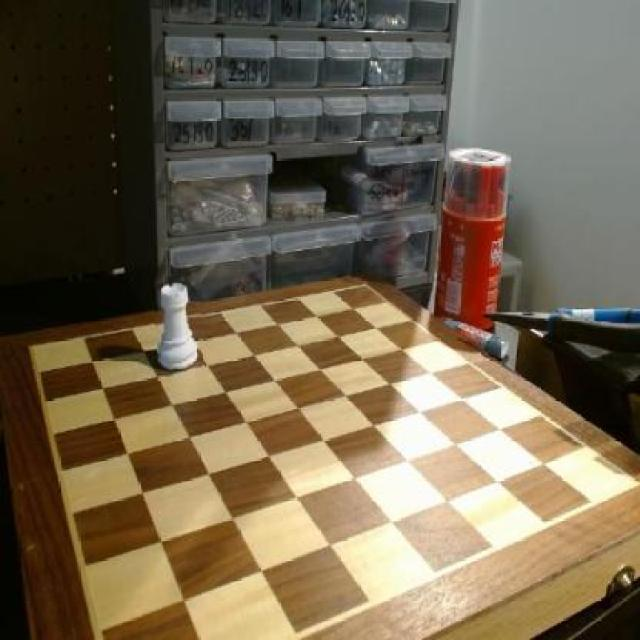white-queen: (155, 274, 204, 375)
